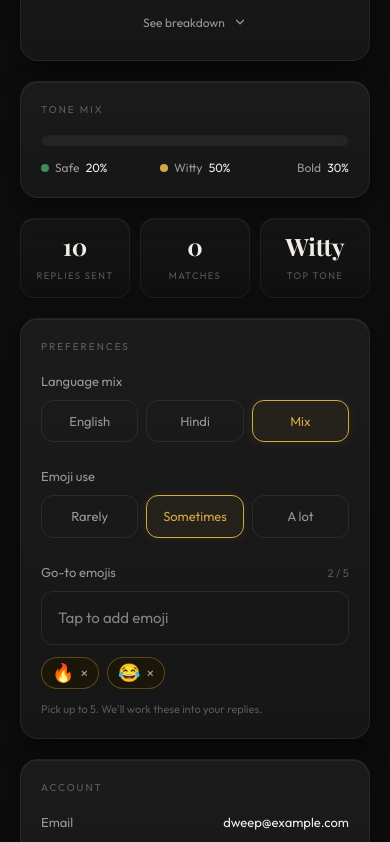
ProfileScreen › preferences — draft / save / discard › a tap edits draft state only — the store is untouched until Save
(page scrolled)
Click the button "Hindi". click: point(195, 421)
box: [146, 400, 244, 442]
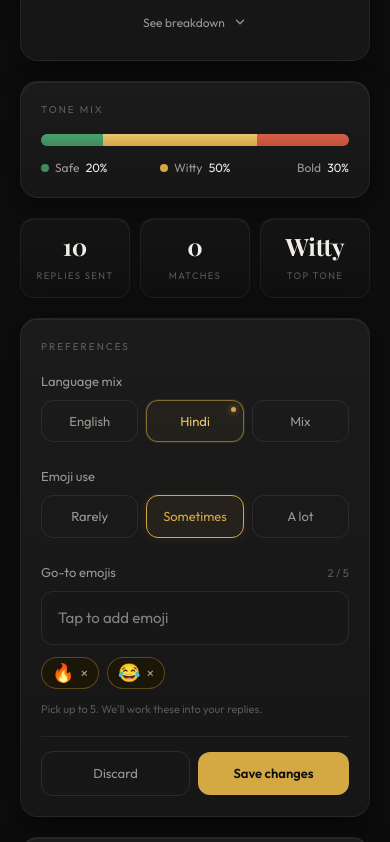
Check: the button "Save changes" is shown, box [198, 752, 349, 795]
